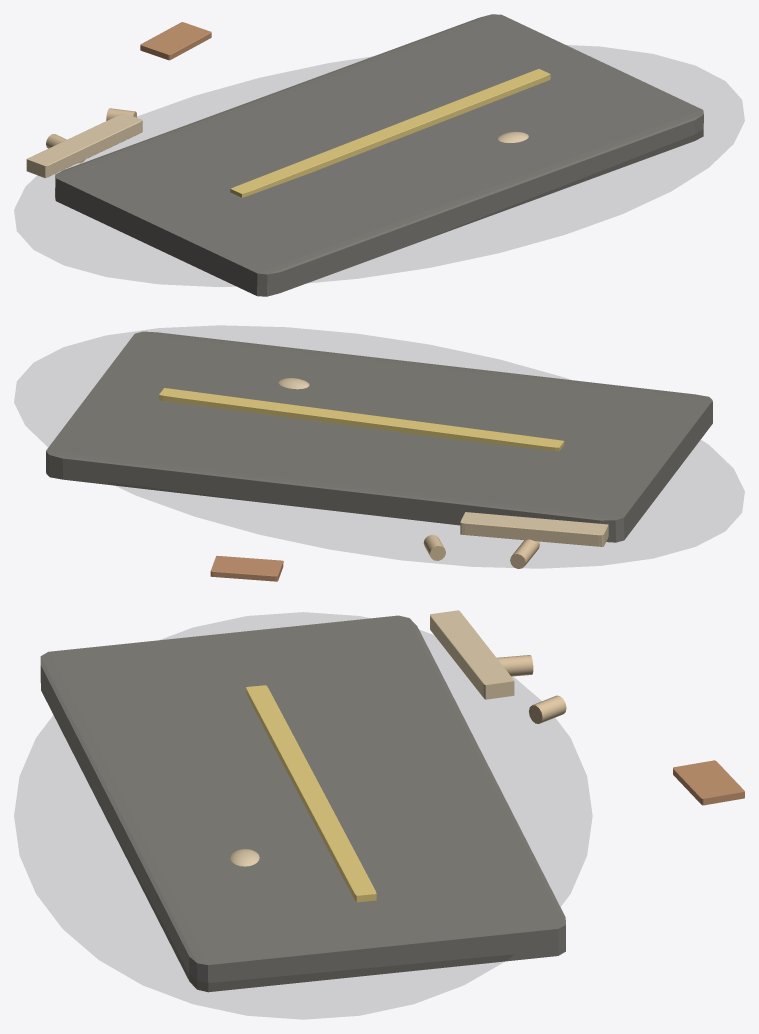
Rendered from asphalt_slab.glb.
The picture shows the model from 3 angles, top to bottom: view 1: azimuth 30°, elevation 25°; view 2: azimuth 150°, elevation 25°; view 3: azimuth 270°, elevation 25°; orthographic projection. The views are drawn at different scales.
Parts seen in each view (by area): view 1: broken_asphalt_slab_main, painted_contact_shadow, faded_lane_paint, sandy_broken_edge_a, loose_scrap_flake_2; view 2: broken_asphalt_slab_main, painted_contact_shadow, faded_lane_paint, sandy_broken_edge_a, loose_scrap_flake_2, discarded_bolt_detail_3; view 3: broken_asphalt_slab_main, painted_contact_shadow, faded_lane_paint, sandy_broken_edge_a, loose_scrap_flake_2, discarded_bolt_detail_4.
Boxes of the visible parts, left/top/right/bottom form: broken_asphalt_slab_main: left=55, top=14, right=703, bottom=296; painted_contact_shadow: left=14, top=45, right=744, bottom=286; faded_lane_paint: left=230, top=69, right=550, bottom=197; sandy_broken_edge_a: left=26, top=113, right=142, bottom=178; loose_scrap_flake_2: left=140, top=22, right=211, bottom=60; broken_asphalt_slab_main: left=46, top=331, right=712, bottom=542; painted_contact_shadow: left=14, top=326, right=744, bottom=567; faded_lane_paint: left=159, top=388, right=564, bottom=451; sandy_broken_edge_a: left=460, top=512, right=608, bottom=546; loose_scrap_flake_2: left=210, top=555, right=283, bottom=581; discarded_bolt_detail_3: left=510, top=539, right=539, bottom=568; broken_asphalt_slab_main: left=40, top=615, right=565, bottom=992; painted_contact_shadow: left=14, top=612, right=591, bottom=1018; faded_lane_paint: left=246, top=685, right=376, bottom=902; sandy_broken_edge_a: left=430, top=610, right=514, bottom=699; loose_scrap_flake_2: left=673, top=760, right=744, bottom=805; discarded_bolt_detail_4: left=529, top=695, right=566, bottom=723.
Bounding box in the file's own units: 2.4 × 0.1231 × 1.82.
